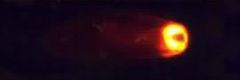keyhole: (173, 31, 186, 45)
